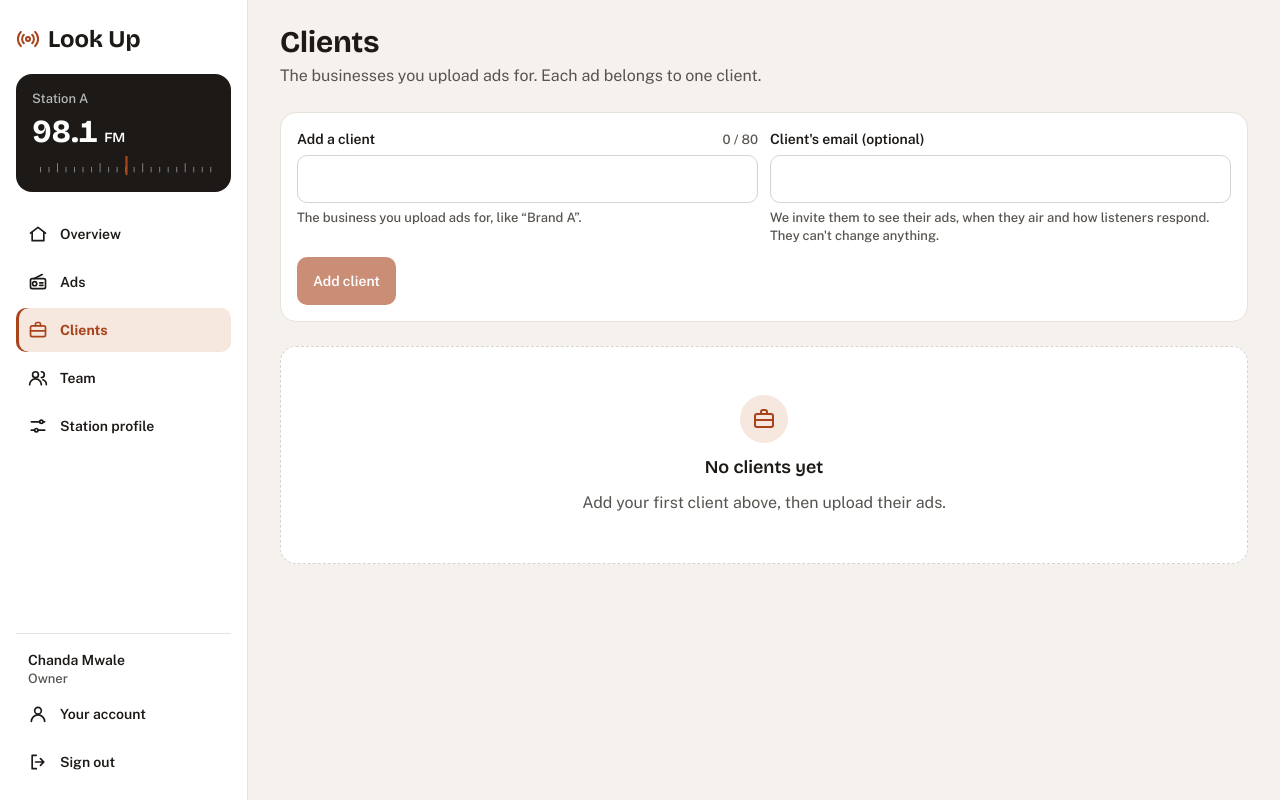
it: adding a client with an email (the station) › P5C-ONBOARDING-01: without an email only the name is sent; a refused email is shown under the email and nothing is added
Type "Brand A" into the field labelled "Add a client". click: (528, 179)
box: [297, 155, 758, 203]
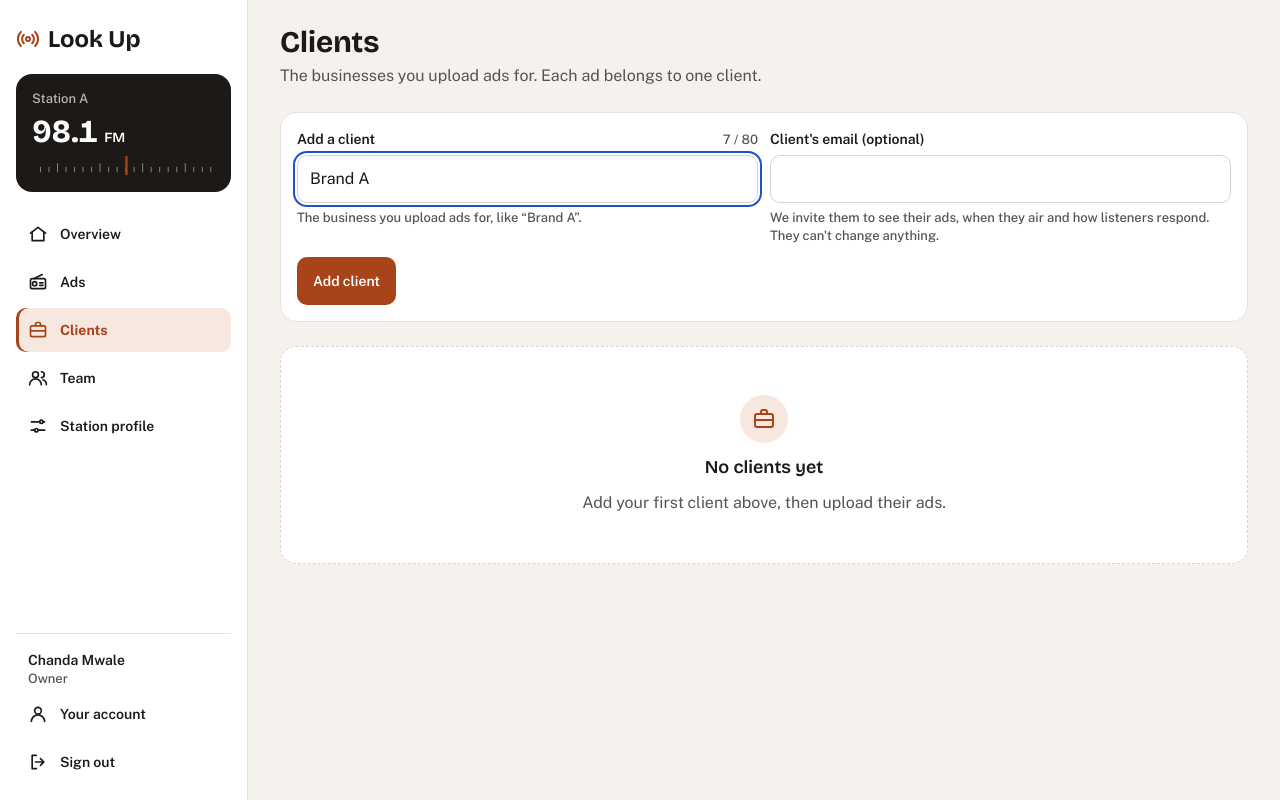
Type "not an email" into the field labelled "Client's email (optional)". click: (1000, 179)
box: [770, 155, 1231, 203]
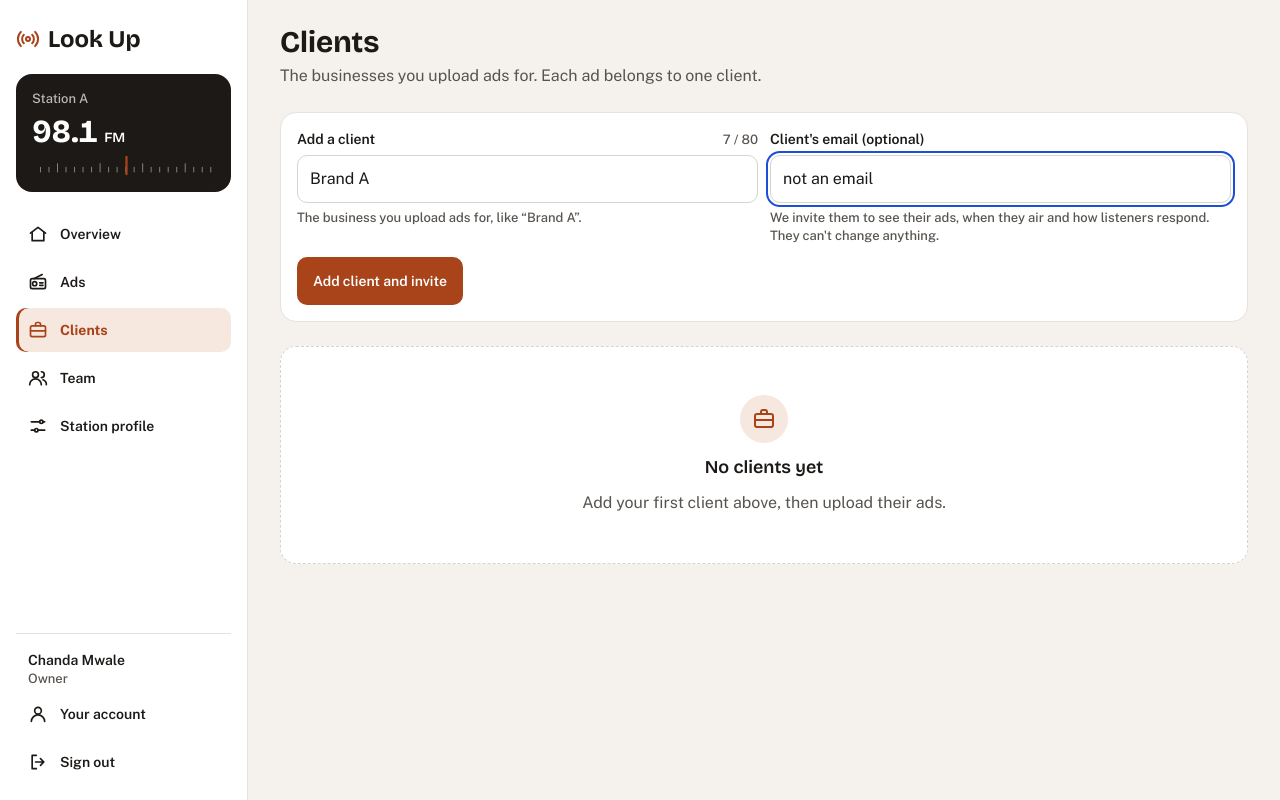
Click the button "Add client and invite". click: (380, 281)
box: [297, 257, 463, 305]
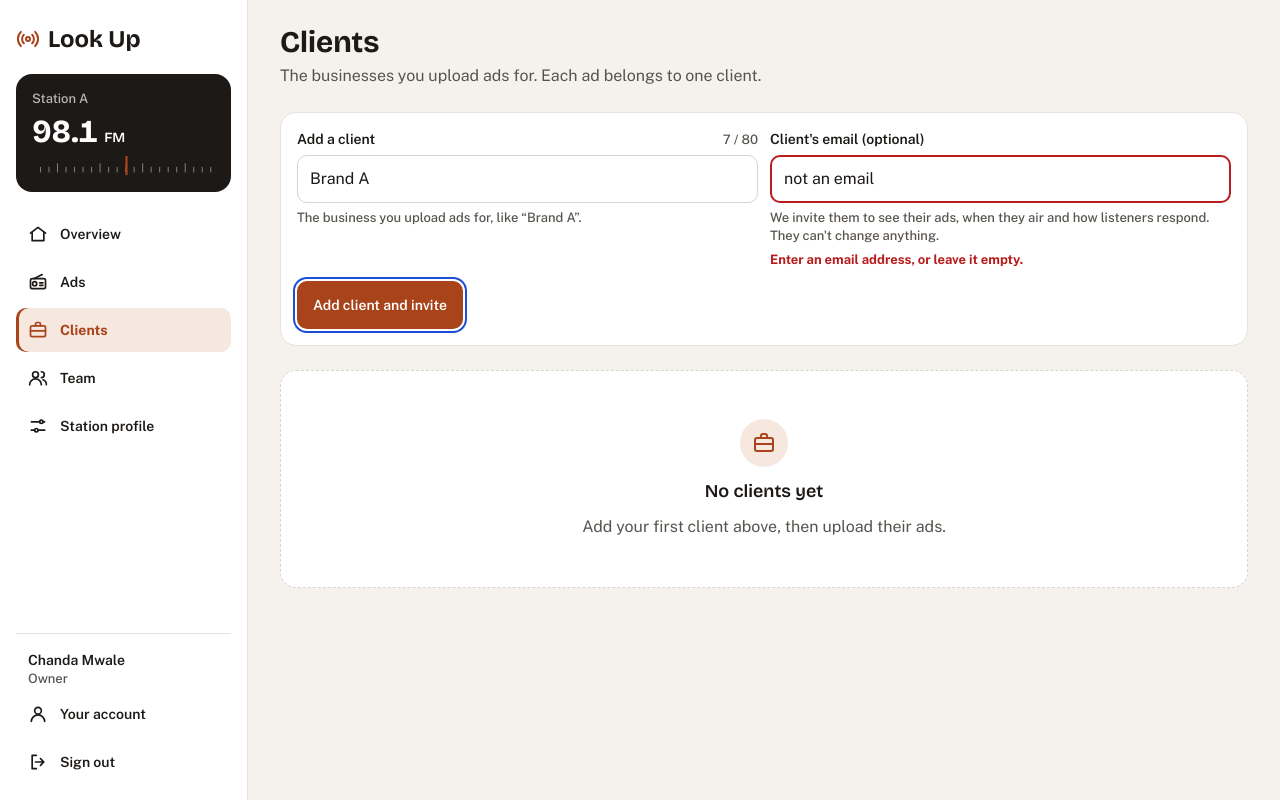
Expected: the text "Enter an email address, or leave it empty." is shown, [770, 252, 1023, 267]
Clear the field labelled "Client's email (optional)". click: (1000, 179)
box: [770, 155, 1231, 203]
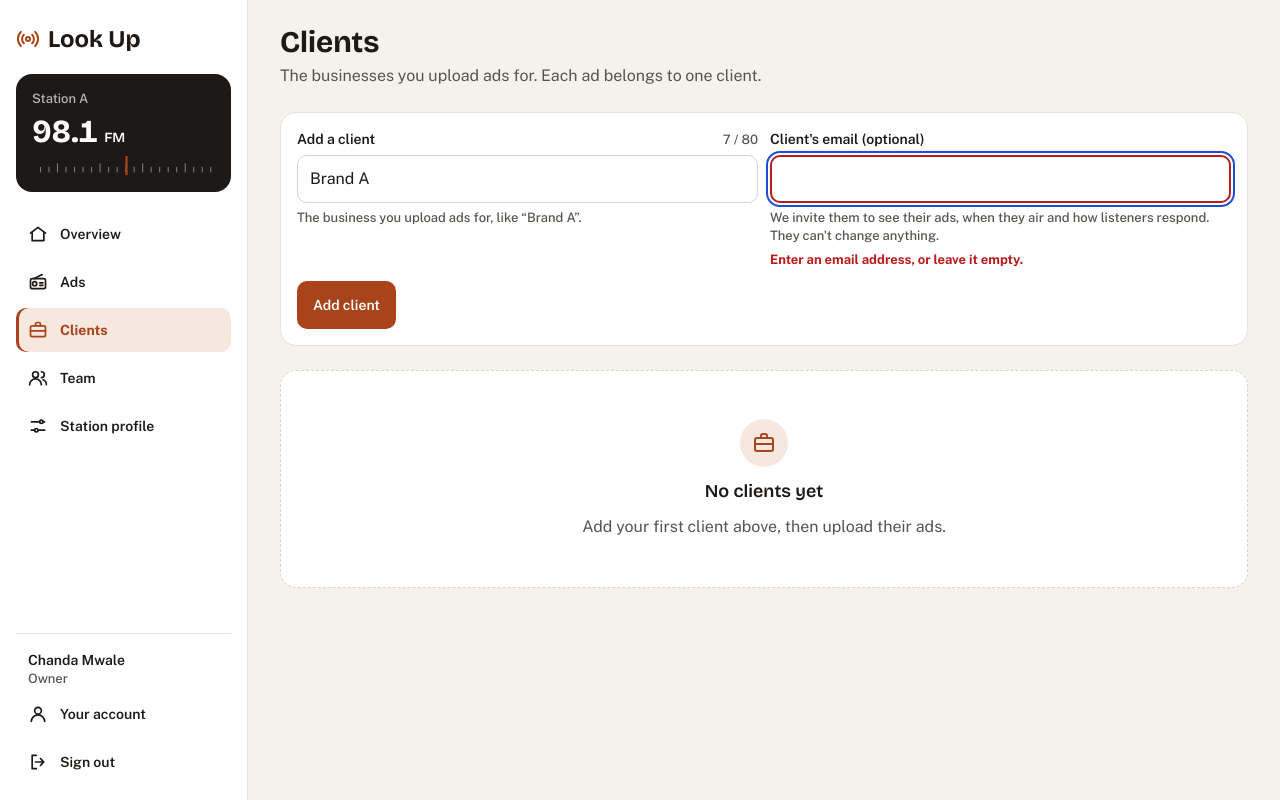
Click the button "Add client". click: (346, 305)
box: [297, 281, 396, 329]
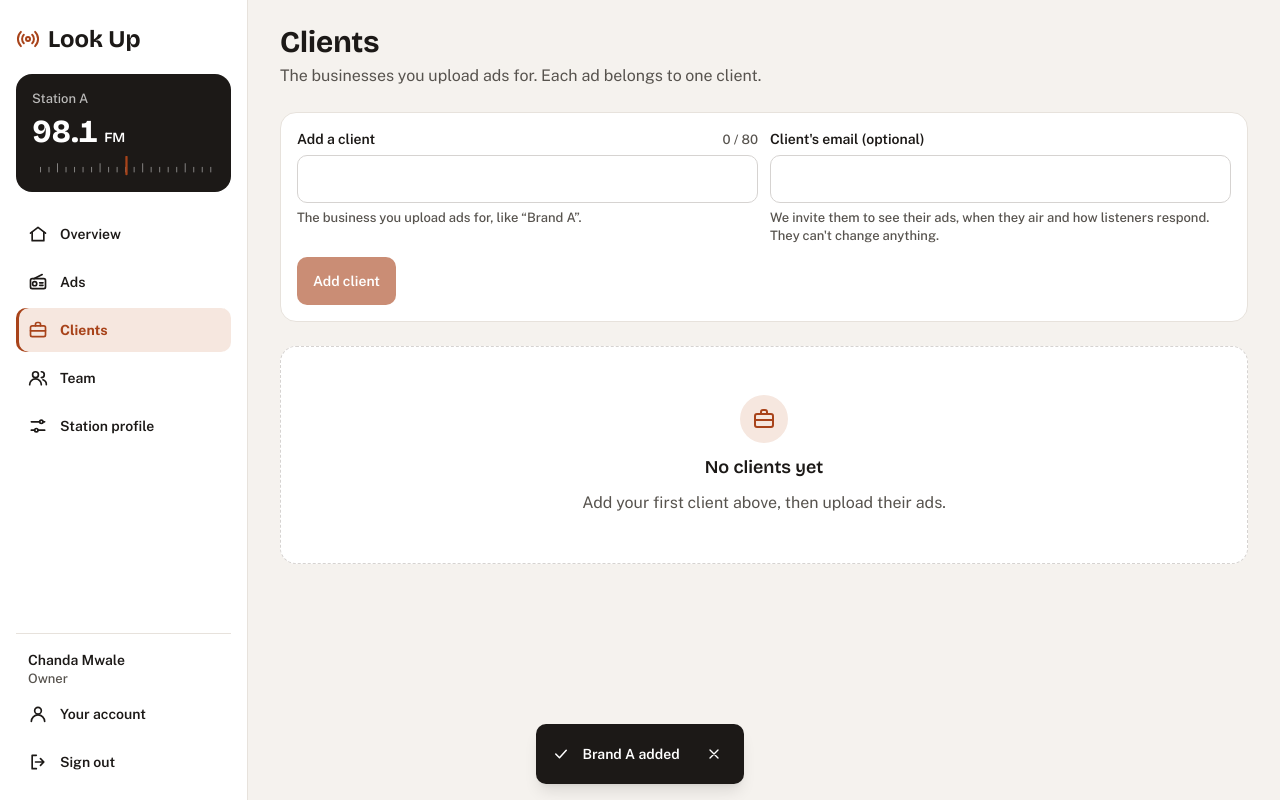
Expected: the text "Brand A added" is shown, [582, 744, 680, 764]
